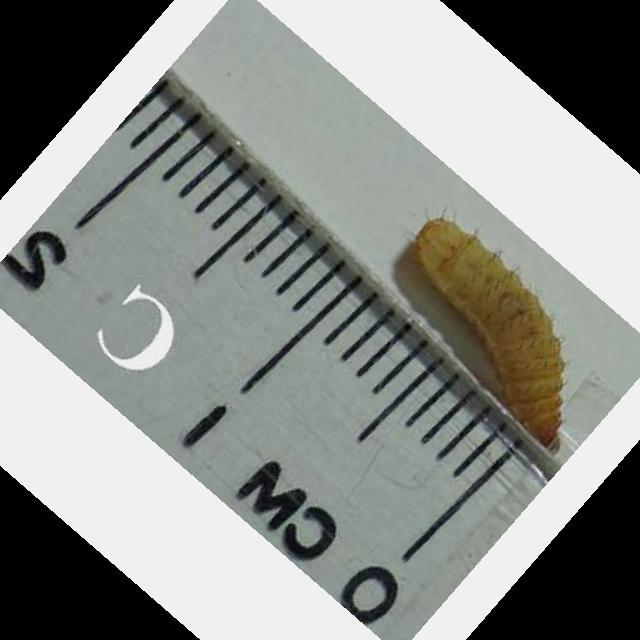Maggot: (410, 216, 571, 453)
